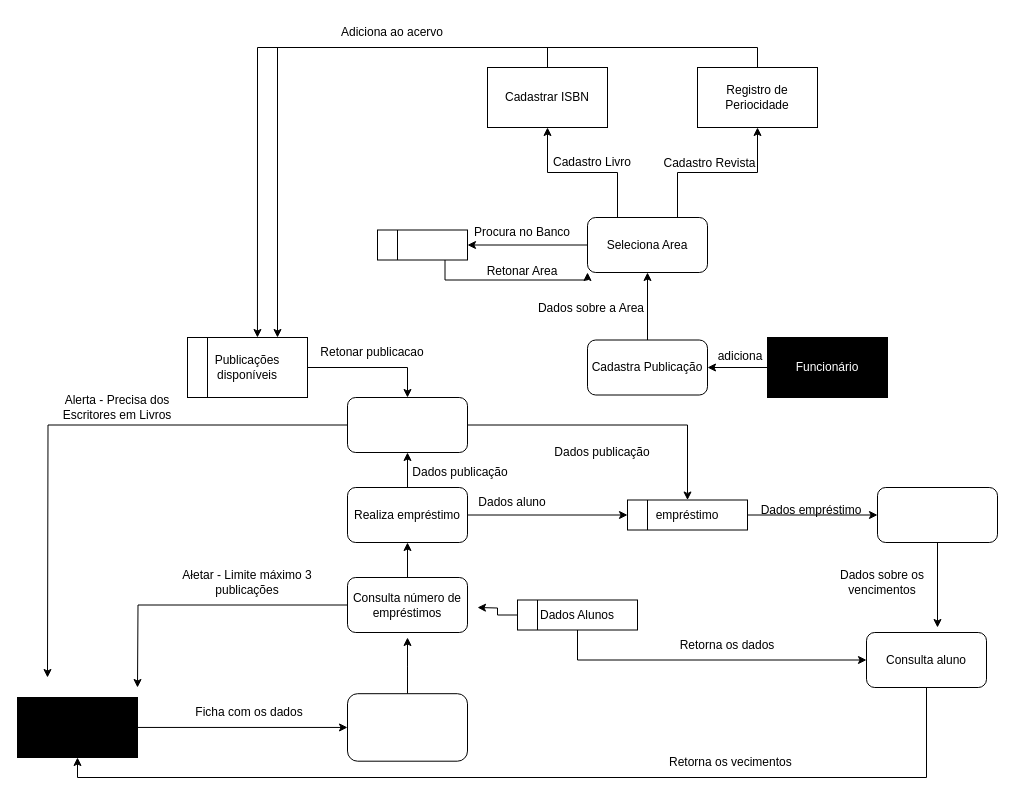
This 1015x803 diagram has some shape labels left out. Here are the shapes that lost their labels. From the top down, the centre of each, then its label:
point 422,244: Áreas
point 407,424: Procura publicação
point 937,514: Consulta vencimento
point 77,727: Aluno
point 407,727: Ficha de empréstimo
